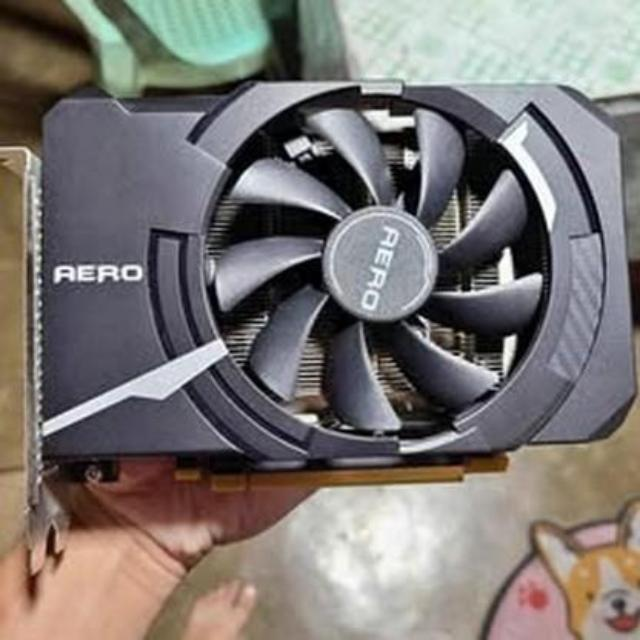GPU: (5, 68, 640, 503)
